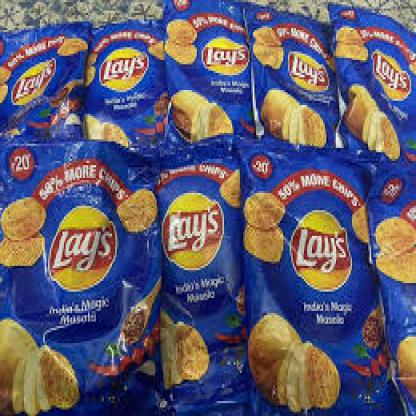indian_magic_masala: (0, 139, 155, 414), (240, 152, 384, 414), (155, 137, 242, 414), (333, 0, 414, 152), (163, 0, 251, 135), (251, 0, 333, 144), (0, 22, 85, 140), (85, 22, 165, 140)
